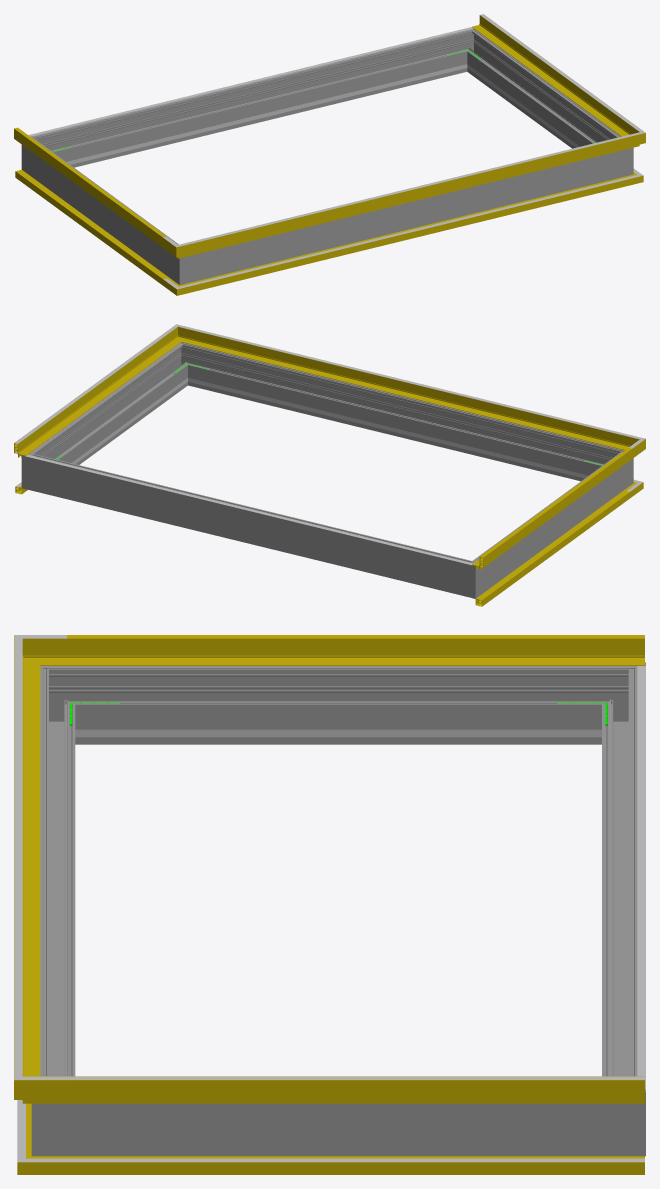
3 views of the same model, one above another, from view 1: azimuth 30°, elevation 25°; view 2: azimuth 150°, elevation 25°; view 3: azimuth 270°, elevation 25° (orthographic). The views are drawn at different scales.
Visible parts, largest first — view 1: 3DGeom-276, 3DGeom-298, 3DGeom-297, 3DGeom-56, 3DGeom-11, 3DGeom-268, 3DGeom-58, 3DGeom-244, 3DGeom-50, 3DGeom-6, 3DGeom-220, 3DGeom-66 (+10 smaller); view 2: 3DGeom-298, 3DGeom-276, 3DGeom-56, 3DGeom-297, 3DGeom-268, 3DGeom-58, 3DGeom-50, 3DGeom-239, 3DGeom-6, 3DGeom-220, 3DGeom-278, 3DGeom-66 (+8 smaller); view 3: 3DGeom-268, 3DGeom-297, 3DGeom-50, 3DGeom-58, 3DGeom-276, 3DGeom-298, 3DGeom-16, 3DGeom-56, 3DGeom-232, 3DGeom-220, 3DGeom-66, 3DGeom-290 (+9 smaller).
Part boxes in pixels (left/top/right/bottom): 3DGeom-276: left=47, top=33, right=463, bottom=167; 3DGeom-298: left=203, top=153, right=610, bottom=279; 3DGeom-297: left=469, top=37, right=615, bottom=148; 3DGeom-56: left=197, top=138, right=622, bottom=253; 3DGeom-11: left=197, top=178, right=620, bottom=289; 3DGeom-268: left=35, top=145, right=173, bottom=274; 3DGeom-58: left=472, top=15, right=628, bottom=135; 3DGeom-244: left=75, top=69, right=444, bottom=163; 3DGeom-50: left=14, top=129, right=162, bottom=247; 3DGeom-6: left=15, top=169, right=169, bottom=285; 3DGeom-220: left=28, top=27, right=473, bottom=136; 3DGeom-66: left=198, top=137, right=621, bottom=241; 3DGeom-298: left=192, top=347, right=607, bottom=481; 3DGeom-276: left=45, top=458, right=455, bottom=592; 3DGeom-56: left=193, top=331, right=620, bottom=447; 3DGeom-297: left=39, top=350, right=185, bottom=464; 3DGeom-268: left=481, top=458, right=619, bottom=588; 3DGeom-58: left=14, top=335, right=174, bottom=457; 3DGeom-50: left=472, top=449, right=632, bottom=570; 3DGeom-239: left=210, top=383, right=579, bottom=477; 3DGeom-6: left=473, top=490, right=629, bottom=606; 3DGeom-220: left=25, top=455, right=472, bottom=565; 3DGeom-278: left=452, top=554, right=488, bottom=598; 3DGeom-66: left=198, top=330, right=621, bottom=434; 3DGeom-268: left=84, top=666, right=593, bottom=744; 3DGeom-297: left=84, top=1103, right=593, bottom=1156; 3DGeom-50: left=66, top=638, right=644, bottom=665; 3DGeom-58: left=66, top=1076, right=644, bottom=1103; 3DGeom-276: left=602, top=684, right=637, bottom=1076; 3DGeom-298: left=40, top=684, right=75, bottom=1076; 3DGeom-16: left=70, top=1156, right=644, bottom=1174; 3DGeom-56: left=14, top=657, right=40, bottom=1076; 3DGeom-232: left=126, top=729, right=551, bottom=737; 3DGeom-220: left=637, top=665, right=645, bottom=1089; 3DGeom-66: left=14, top=657, right=22, bottom=1057; 3DGeom-290: left=31, top=1070, right=84, bottom=1156.
Size of the model in its own units: 3.05 by 0.307 by 1.83.
